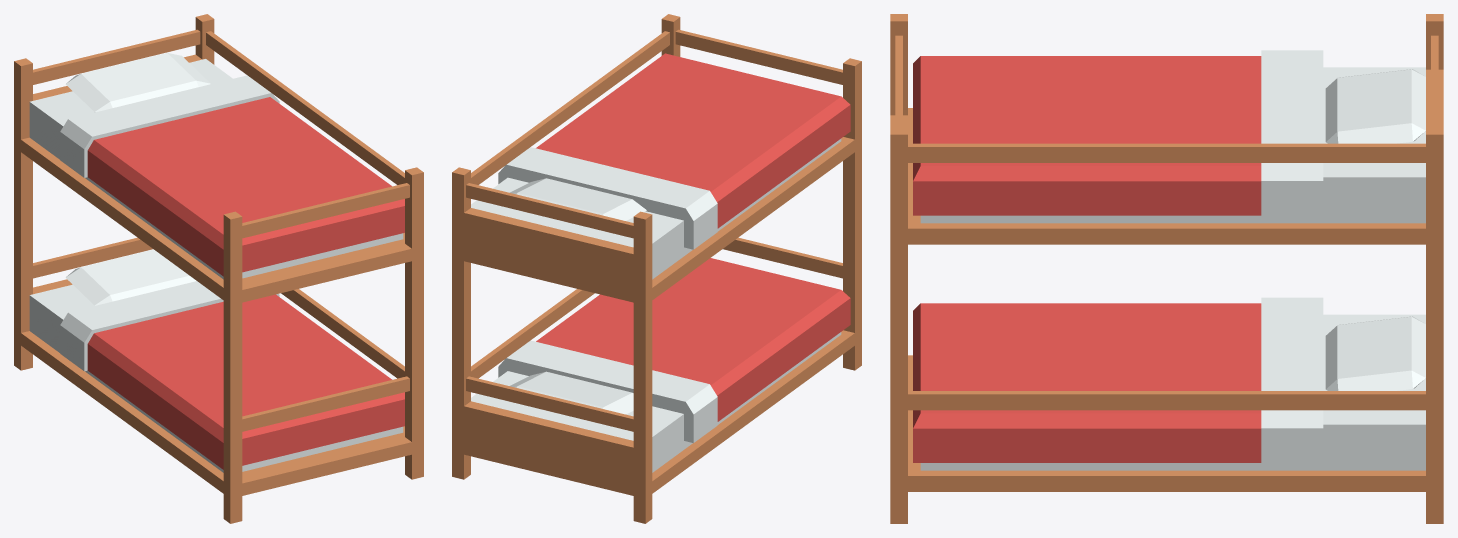
File: Bed Bunk.glb
The picture shows the model from 3 angles, left to right: view 1: azimuth 30°, elevation 25°; view 2: azimuth 150°, elevation 25°; view 3: azimuth 270°, elevation 25°; orthographic projection. The views are drawn at different scales.
Visible parts, largest first — view 1: bedBunk(Clone), coverTop, coverBottom, pillowTop, pillowBottom; view 2: bedBunk(Clone), coverTop, coverBottom, pillowTop, pillowBottom; view 3: bedBunk(Clone), coverTop, coverBottom, pillowTop, pillowBottom.
Boxes of the visible parts, x1,y1,x2,y2 form: bedBunk(Clone): (14, 14, 423, 523); coverTop: (60, 75, 404, 276); coverBottom: (60, 281, 404, 469); pillowTop: (65, 53, 210, 112); pillowBottom: (65, 249, 196, 305); bedBunk(Clone): (452, 14, 861, 523); coverTop: (498, 53, 850, 249); coverBottom: (498, 258, 850, 442); pillowTop: (510, 178, 646, 220); pillowBottom: (509, 371, 633, 414); bedBunk(Clone): (890, 14, 1443, 523); coverTop: (913, 50, 1323, 217); coverBottom: (913, 297, 1323, 464); pillowTop: (1325, 69, 1425, 143); pillowBottom: (1325, 316, 1425, 390).
Size of the model in its own units: 0.571 by 0.85 by 1.1.
